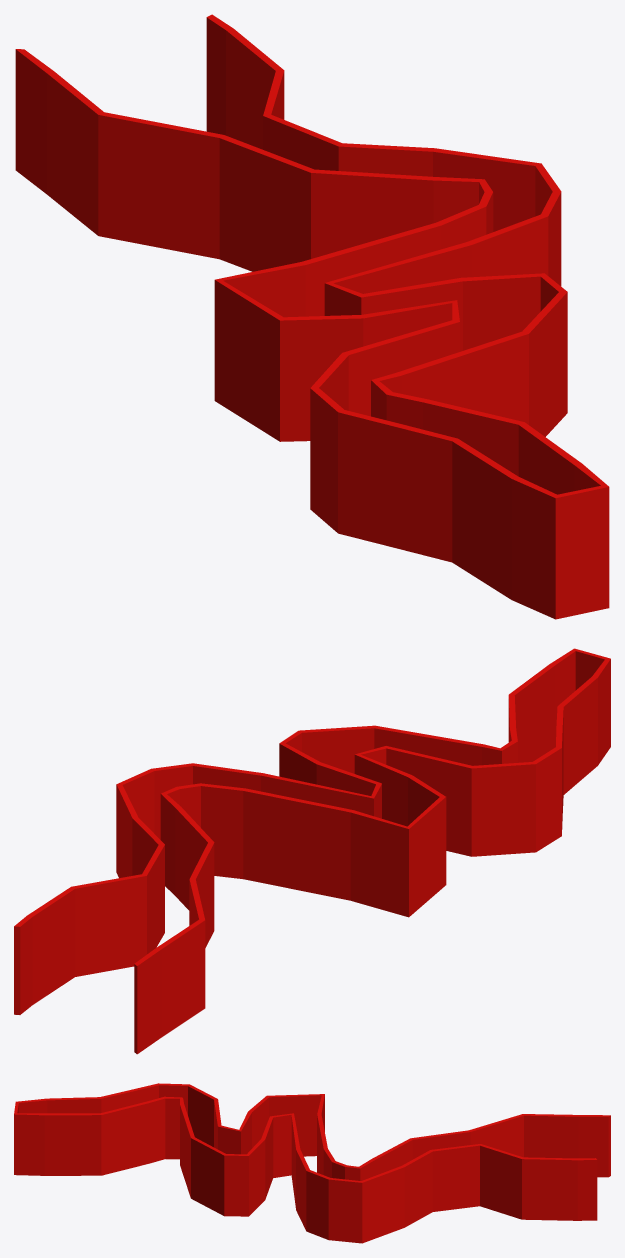
Rendered from ForestFloor_collider 1.fbx.
The picture shows the model from 3 angles, top to bottom: view 1: azimuth 30°, elevation 25°; view 2: azimuth 150°, elevation 25°; view 3: azimuth 270°, elevation 25°; orthographic projection. The views are drawn at different scales.
Visible parts, largest first — view 1: Plane.002; view 2: Plane.002; view 3: Plane.002.
Part boxes in pixels (x1,y1,x2,y2): Plane.002: (15, 14, 609, 619); Plane.002: (14, 648, 610, 1054); Plane.002: (14, 1083, 610, 1243).
Size of the model in its own units: 41848 by 12132 by 106185.
